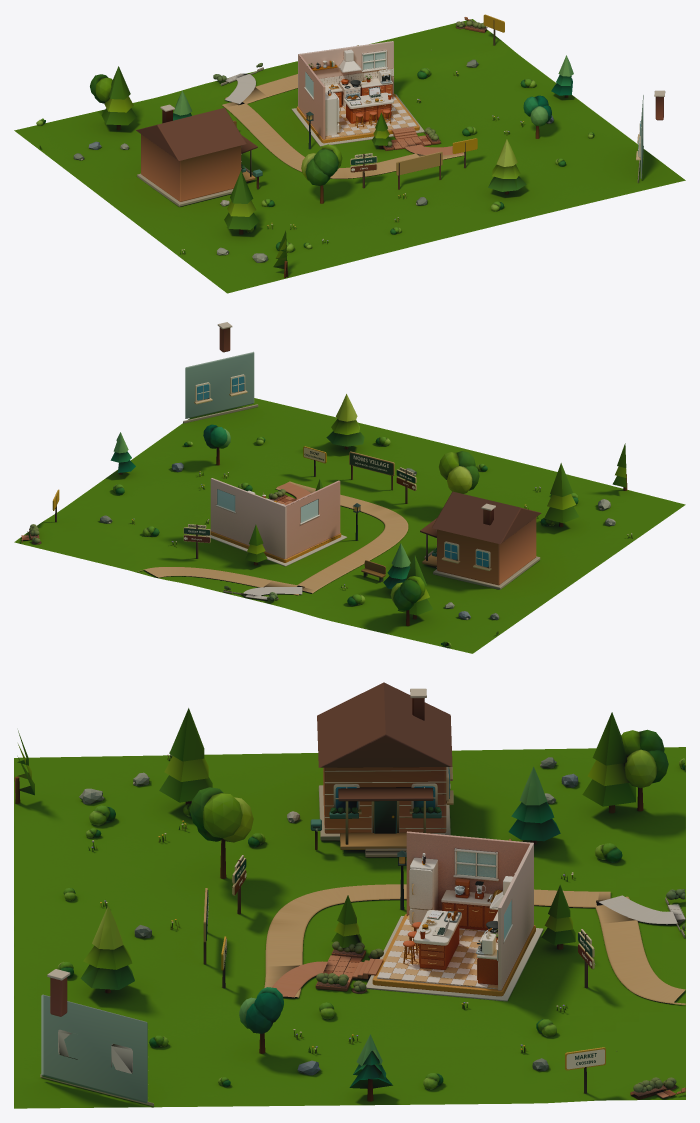
The model's file is after.glb.
The picture shows the model from 3 angles, top to bottom: view 1: azimuth 30°, elevation 25°; view 2: azimuth 150°, elevation 25°; view 3: azimuth 270°, elevation 25°; orthographic projection. The views are drawn at different scales.
Visible parts, largest first — view 1: Baked district ground, Baked district landscape vertex lighting, Baked district architecture, Baked district details; view 2: Baked district ground, Baked district landscape vertex lighting, Baked district architecture; view 3: Baked district ground, Baked district landscape vertex lighting, Baked district architecture, Baked district details.
Part boxes in pixels (x1,y1,x2,y2): Baked district ground: [14, 19, 685, 293]; Baked district landscape vertex lighting: [36, 14, 665, 277]; Baked district architecture: [296, 41, 419, 143]; Baked district details: [308, 49, 416, 138]; Baked district ground: [14, 398, 685, 653]; Baked district landscape vertex lighting: [21, 322, 632, 648]; Baked district architecture: [210, 478, 341, 562]; Baked district ground: [14, 747, 685, 1108]; Baked district landscape vertex lighting: [14, 682, 685, 1107]; Baked district architecture: [372, 831, 535, 996]; Baked district details: [377, 853, 515, 988].
Size of the model in its own units: 72 by 12.34 by 58.
11 materials, 3 textured.
